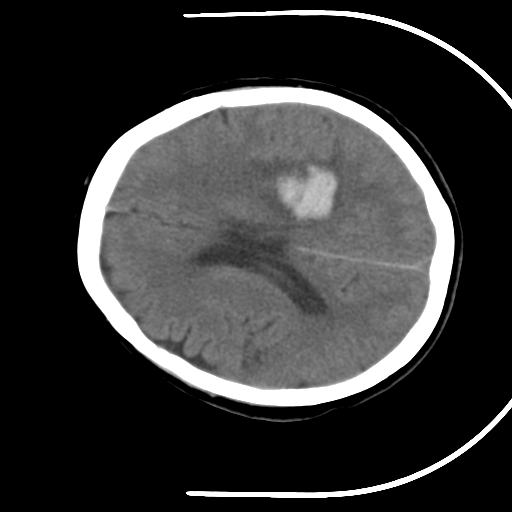a: (247, 145, 354, 237)
